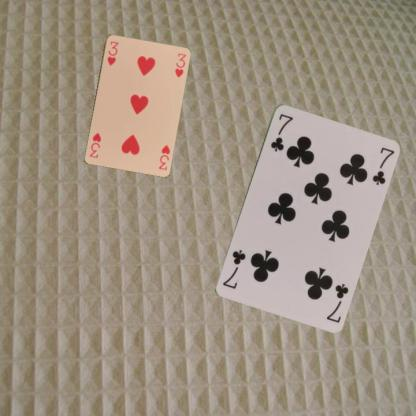3h: (104, 38, 119, 67), (156, 142, 171, 171)
7c: (323, 280, 350, 324), (268, 110, 294, 152)
